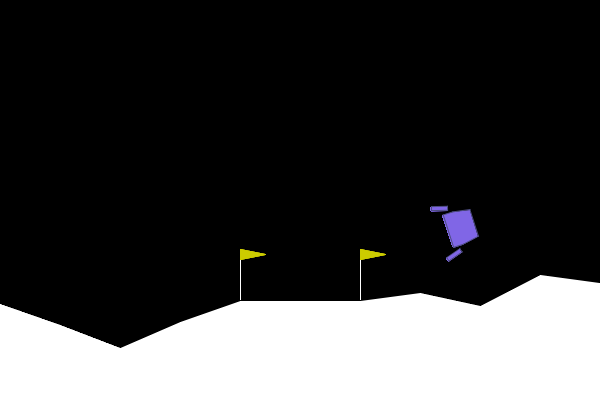lander: (428, 194, 485, 263)
